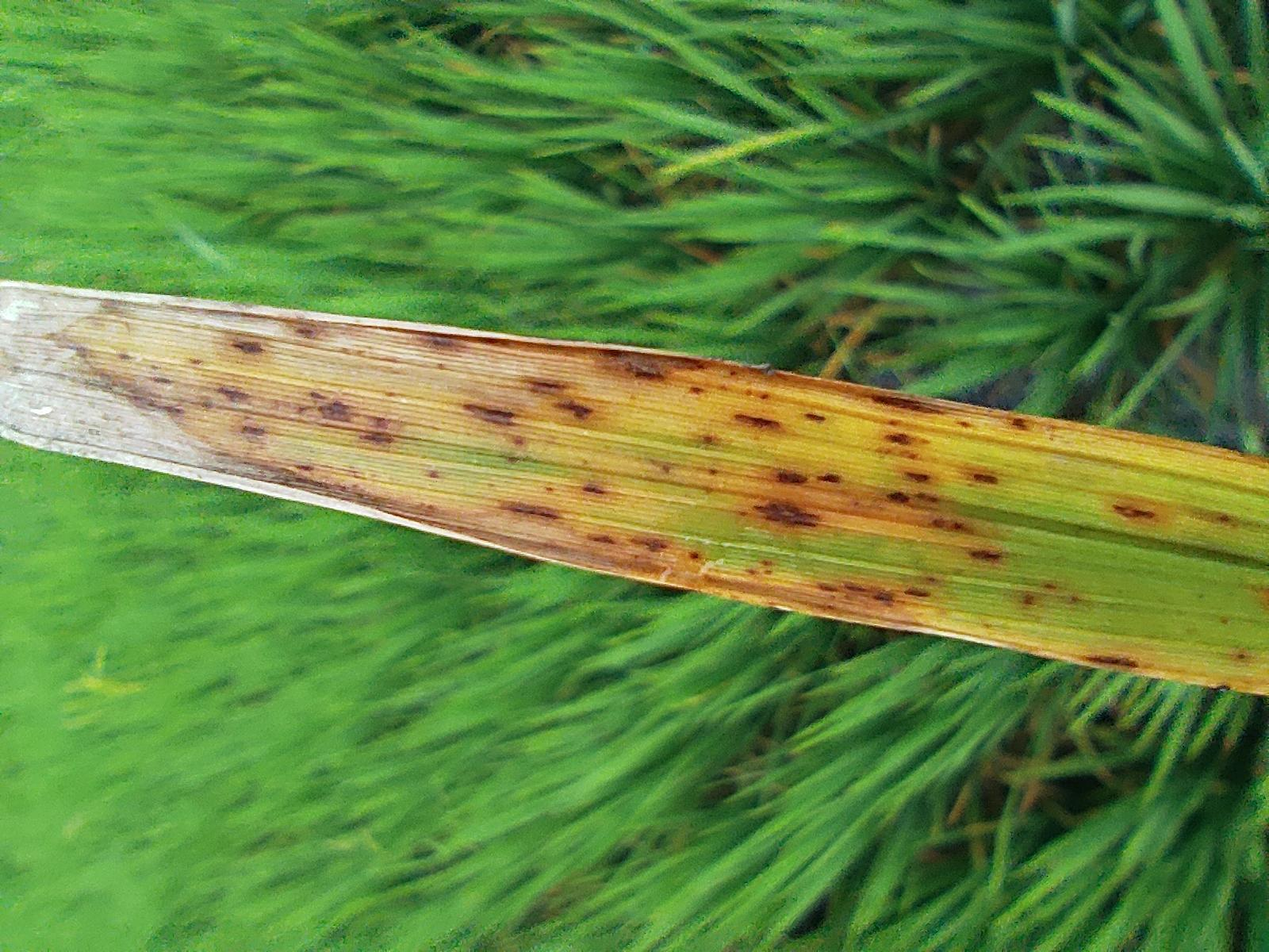LEAF: (344, 0, 894, 951)
NBS: (563, 564, 603, 621), (693, 549, 727, 587), (702, 346, 730, 386), (704, 239, 736, 265), (576, 374, 594, 420), (621, 577, 646, 608), (591, 659, 620, 685), (723, 653, 742, 691), (378, 813, 395, 854), (578, 835, 597, 866), (734, 159, 753, 190), (711, 415, 732, 443), (536, 472, 554, 502), (619, 608, 640, 632), (677, 269, 695, 296), (796, 174, 815, 199), (521, 725, 537, 752), (676, 663, 691, 686), (542, 440, 556, 464), (564, 697, 577, 722), (621, 730, 638, 749), (473, 677, 488, 697), (762, 476, 774, 499), (625, 678, 640, 696), (751, 395, 761, 421), (688, 181, 700, 199), (600, 687, 612, 704), (610, 436, 622, 453), (479, 613, 491, 629), (709, 603, 718, 619), (479, 634, 488, 650), (641, 220, 649, 235)
